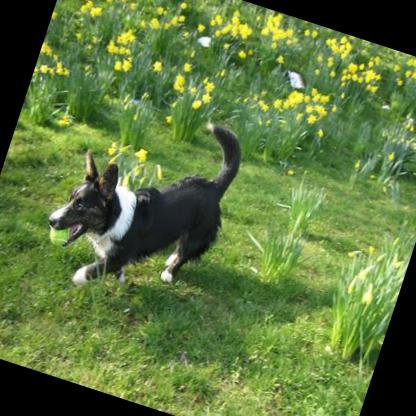Cardigan: (29, 79, 253, 324)
